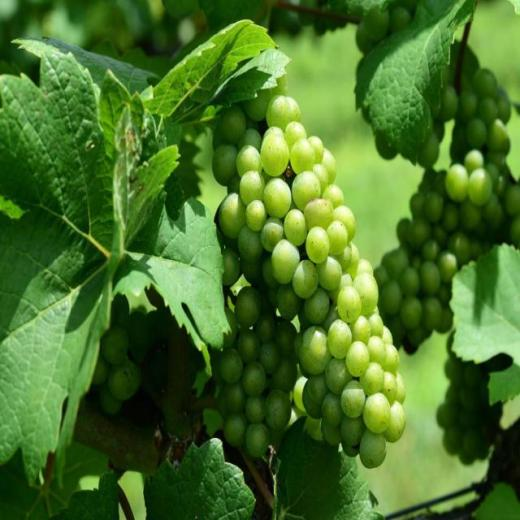Orange: (208, 77, 405, 470), (373, 65, 520, 352), (436, 334, 503, 466), (93, 294, 152, 418)
